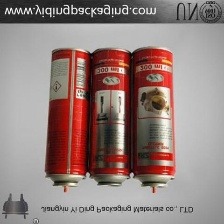aerosol_cans: (40, 44, 95, 195), (128, 42, 177, 197), (83, 46, 134, 191)
